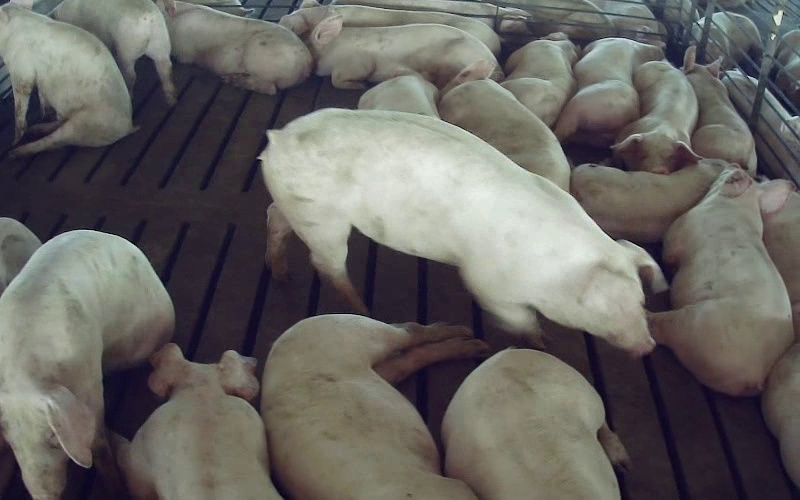pig: (261, 110, 664, 354), (0, 230, 173, 499), (261, 314, 486, 499), (649, 167, 792, 395), (442, 349, 629, 499), (114, 344, 281, 499), (438, 61, 569, 190), (157, 0, 312, 94), (308, 14, 496, 88), (52, 0, 176, 105), (571, 159, 727, 242), (279, 0, 500, 55), (554, 38, 662, 147), (612, 60, 699, 173), (683, 46, 756, 175), (502, 32, 577, 126)
